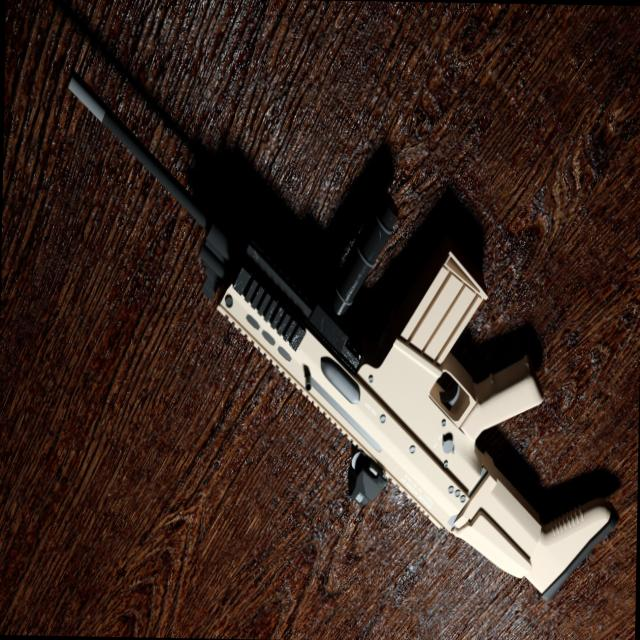Gun: (62, 0, 600, 621)
